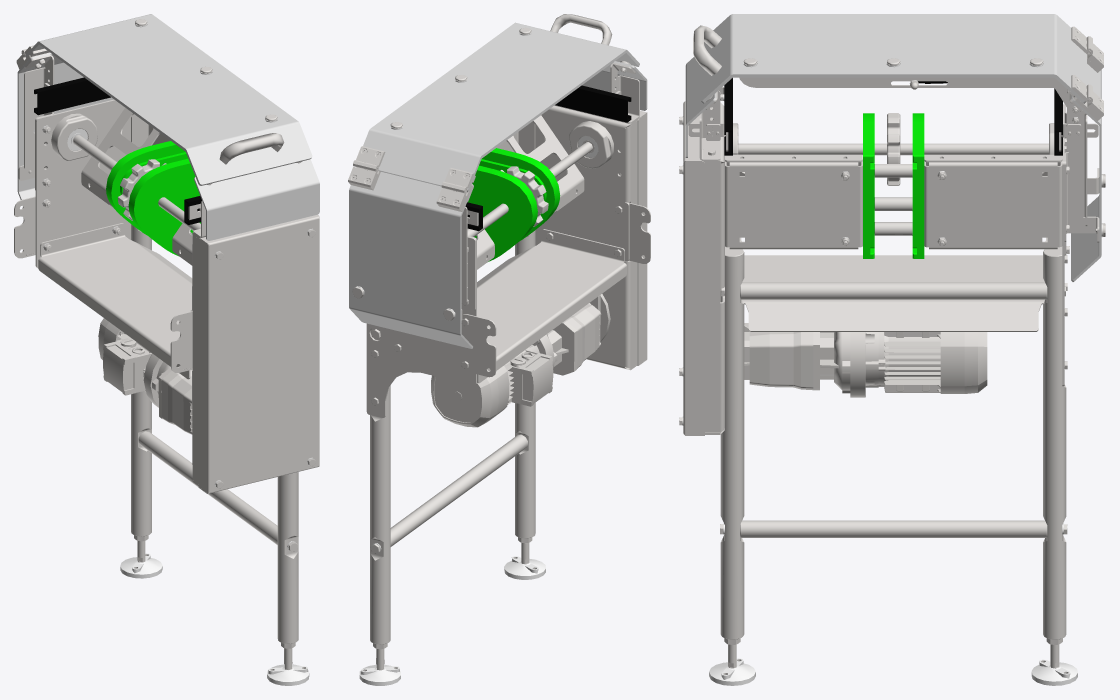
3 views of the same model, side by side, from view 1: azimuth 30°, elevation 25°; view 2: azimuth 150°, elevation 25°; view 3: azimuth 270°, elevation 25° (orthographic). The views are drawn at different scales.
Parts seen in each view (by area): view 1: base, glass; view 2: base, glass; view 3: base, glass.
Boxes of the visible parts, left/top/right/bottom form: base: left=14, top=19, right=319, bottom=685; glass: left=17, top=14, right=319, bottom=240; base: left=348, top=14, right=650, bottom=685; glass: left=349, top=22, right=647, bottom=348; base: left=679, top=25, right=1105, bottom=685; glass: left=685, top=14, right=1101, bottom=281.
Size of the model in its own units: 0.307 by 1.16 by 0.7299.
1 material, 1 textured.
